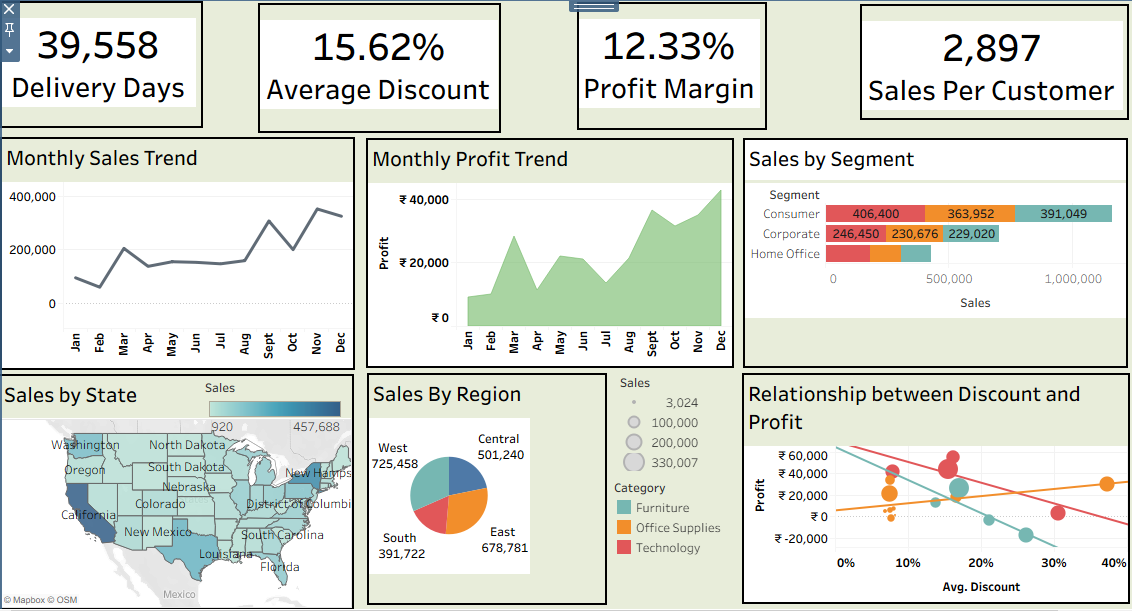

The page's visual inventory and layout, read from the dashboard file:
{"tool":"tableau","page":{"name":"Dashboard 1","canvas":[1200,900],"ordinal":0},"visuals":[{"type":"worksheet","title":"Sheet 4","mark":"Automatic","box":[583,9,379,205]},{"type":"worksheet","title":"Sheet 2","mark":"Automatic","box":[263,12,239,216]},{"type":"worksheet","title":"Sheet 13","mark":"Automatic","rows":["Segment"],"cols":["Sales"],"box":[742,142,421,222]},{"type":"worksheet","title":"Sales_Trend","mark":"Automatic","rows":["Sales"],"cols":["Order Date"],"box":[6,144,355,233]},{"type":"worksheet","title":"Profit_Trend","mark":"Area","rows":["Profit"],"cols":["Order Date"],"box":[374,144,361,230]},{"type":"worksheet","title":"Sales_by_State","mark":"Automatic","box":[5,390,378,236]},{"type":"legend","title":"Sales_by_State","param":"[federated.1u7vvxb0q2g05f15y3g181kyt16u].[sum:Sales:qk]","box":[219,392,140,54]},{"type":"worksheet","title":"Sales_by_Region","mark":"Pie","box":[396,393,286,239]},{"type":"worksheet","title":"Sheet 14","mark":"Circle","rows":["Profit"],"cols":["Discount"],"box":[737,398,437,220]},{"type":"legend","title":"Sheet 14","param":"[federated.1u7vvxb0q2g05f15y3g181kyt16u].[sum:Sales:qk]","box":[618,413,140,98]},{"type":"legend","title":"Sheet 14","param":"[federated.1u7vvxb0q2g05f15y3g181kyt16u].[none:Category:nk]","box":[612,524,140,79]}]}

Visuals, with their boxes on the page's 1200x900 design canvas (x1, y1, x2, y2). These are canvas units, not pixel positions in the 1132x611 screenshot, which may show the page scaled, cropped or inside an application window:
"Sheet 4" worksheet: [left=583, top=9, right=962, bottom=214]
"Sheet 2" worksheet: [left=263, top=12, right=502, bottom=228]
"Sheet 13" worksheet: [left=742, top=142, right=1163, bottom=364]
"Sales_Trend" worksheet: [left=6, top=144, right=361, bottom=377]
"Profit_Trend" worksheet (Area marks): [left=374, top=144, right=735, bottom=374]
"Sales_by_State" worksheet: [left=5, top=390, right=383, bottom=626]
"Sales_by_State" legend: [left=219, top=392, right=359, bottom=446]
"Sales_by_Region" worksheet (Pie marks): [left=396, top=393, right=682, bottom=632]
"Sheet 14" worksheet (Circle marks): [left=737, top=398, right=1174, bottom=618]
"Sheet 14" legend: [left=618, top=413, right=758, bottom=511]
"Sheet 14" legend: [left=612, top=524, right=752, bottom=603]
